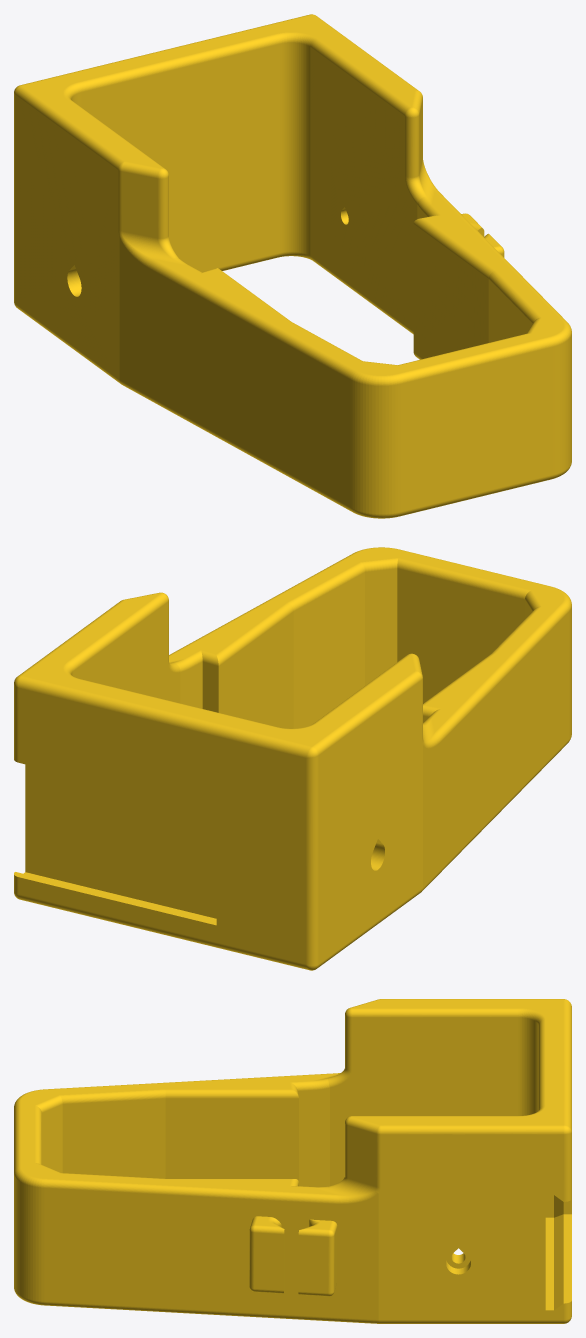
The model's file is base_motor_holder_so101_v1.glb.
3 views of the same model, one above another, from view 1: azimuth 30°, elevation 25°; view 2: azimuth 150°, elevation 25°; view 3: azimuth 270°, elevation 25° (orthographic). The views are drawn at different scales.
Parts seen in each view (by area): view 1: base_motor_holder_so101_v1; view 2: base_motor_holder_so101_v1; view 3: base_motor_holder_so101_v1.
Boxes of the visible parts, x1,y1,x2,y2 form: base_motor_holder_so101_v1: [14, 14, 571, 518]; base_motor_holder_so101_v1: [14, 547, 571, 970]; base_motor_holder_so101_v1: [14, 999, 571, 1323].
Size of the model in its own units: 0.0476 by 0.0314 by 0.0802.
